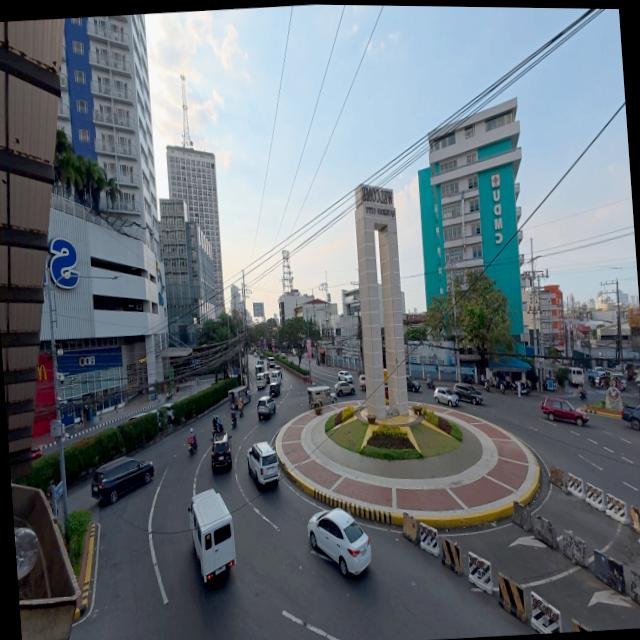Jeepneys: (307, 386, 336, 408), (227, 386, 250, 408)
car: (307, 509, 370, 575), (90, 457, 153, 504), (540, 398, 588, 427), (247, 443, 279, 484), (210, 432, 231, 471), (453, 383, 482, 404), (433, 386, 458, 407), (256, 396, 275, 420), (621, 405, 639, 430), (333, 379, 356, 397), (160, 402, 173, 425), (609, 373, 625, 389), (405, 376, 420, 392), (337, 371, 353, 384), (127, 412, 147, 422), (268, 382, 279, 397), (358, 375, 365, 390), (255, 359, 263, 370), (264, 371, 269, 384), (384, 384, 388, 399), (291, 348, 296, 356), (279, 353, 285, 359)
motorcycle: (499, 379, 515, 393), (212, 417, 224, 433), (187, 435, 196, 456), (484, 377, 495, 392), (519, 383, 530, 396), (164, 389, 173, 401), (230, 411, 236, 428), (577, 390, 586, 400), (426, 378, 434, 388), (237, 408, 243, 417)
vans: (188, 490, 235, 581), (568, 367, 584, 385), (255, 371, 266, 390), (270, 370, 280, 384), (267, 358, 274, 367)
